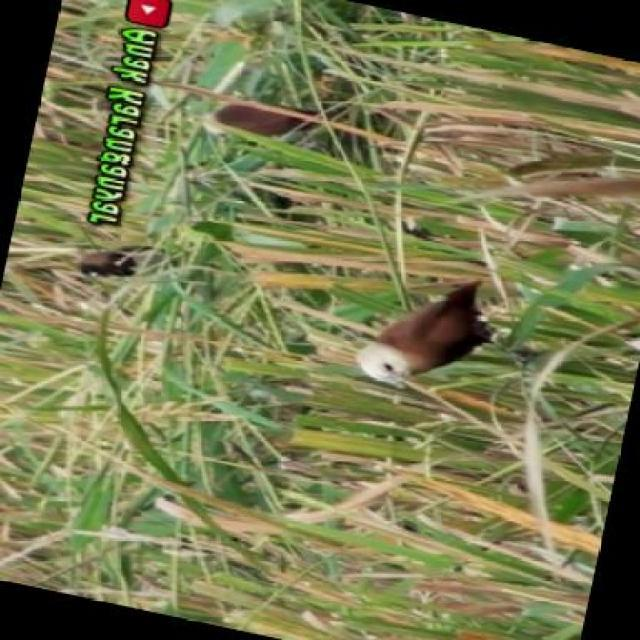Bird: (357, 284, 516, 389), (202, 90, 306, 147), (72, 239, 145, 283)
